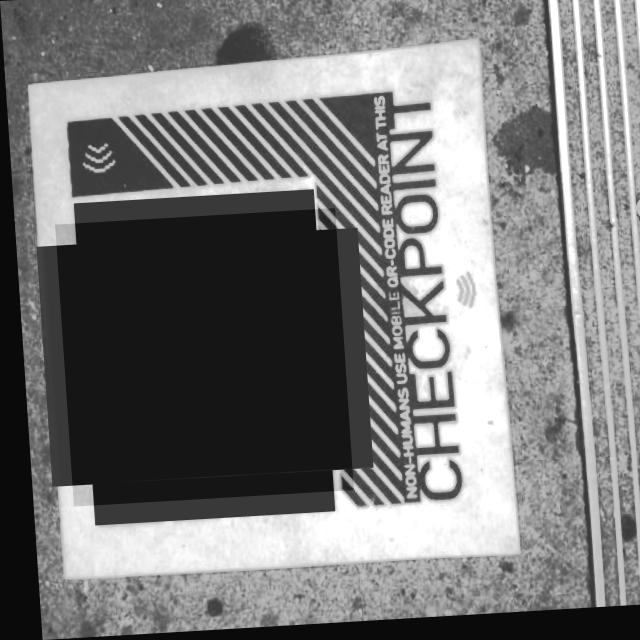qr_code: (52, 211, 347, 506)
